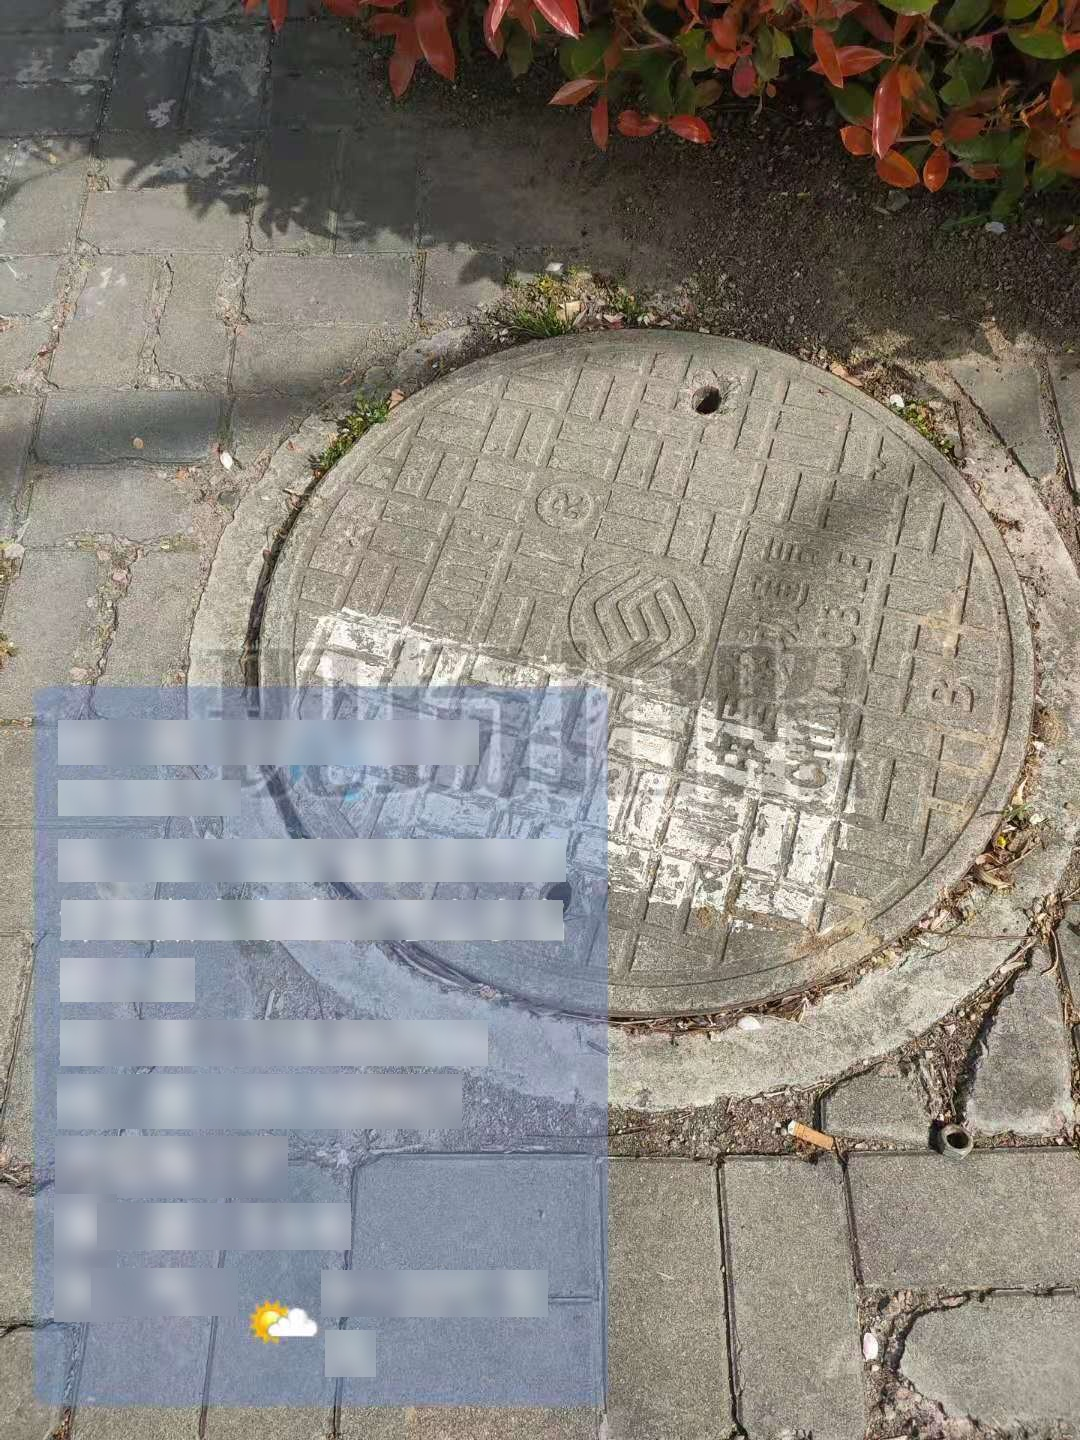circle: (233, 293, 1061, 1079)
